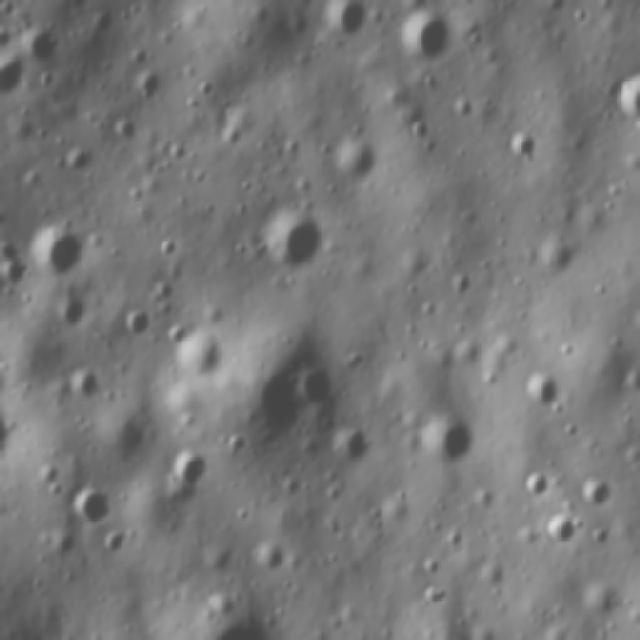crater: (263, 215, 322, 274), (29, 227, 85, 282), (392, 13, 459, 56), (416, 424, 473, 464), (169, 328, 216, 374), (604, 68, 640, 128), (64, 480, 108, 528), (318, 2, 364, 36), (295, 368, 331, 410), (328, 138, 368, 174), (171, 451, 211, 486), (510, 130, 541, 172), (56, 294, 96, 326), (24, 28, 56, 68), (543, 514, 577, 549), (120, 308, 148, 350), (402, 115, 436, 148), (76, 366, 105, 399), (530, 371, 558, 403), (526, 466, 548, 506), (582, 474, 609, 506)
